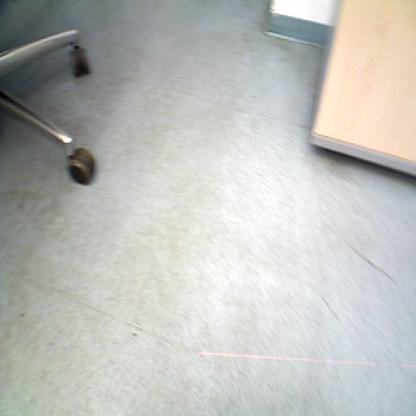mark: (350, 247, 398, 286), (320, 296, 340, 323), (19, 311, 27, 321), (131, 330, 139, 340)
